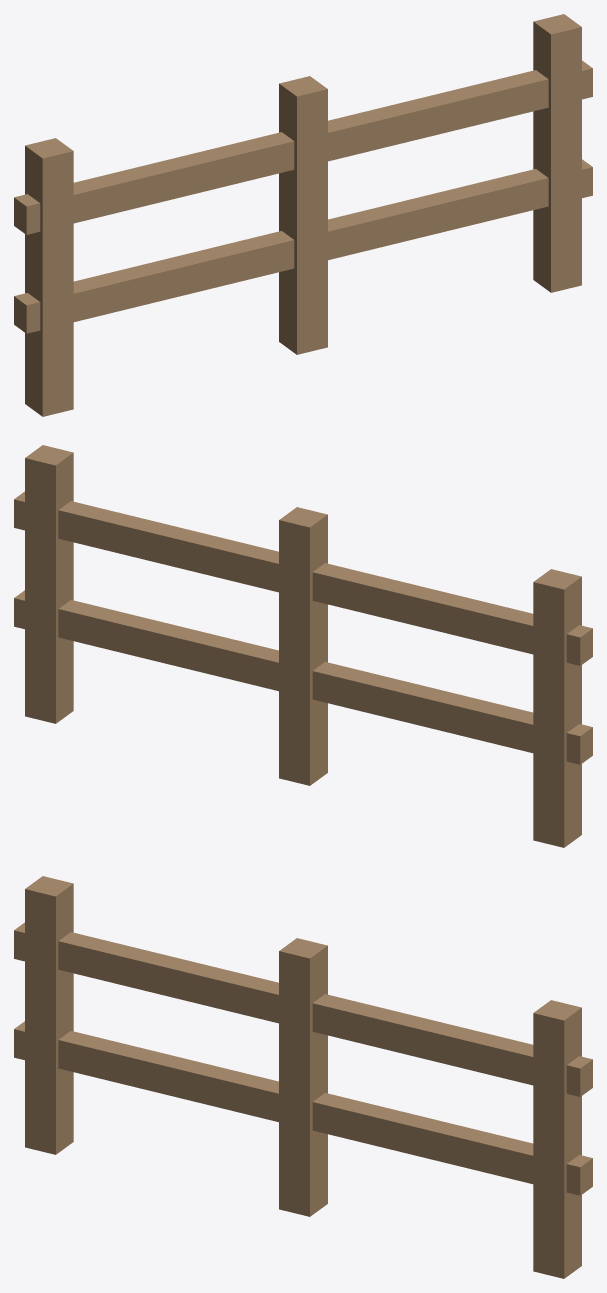
File: wood_fence_3m.gltf
The picture shows the model from 3 angles, top to bottom: view 1: azimuth 30°, elevation 25°; view 2: azimuth 150°, elevation 25°; view 3: azimuth 330°, elevation 25°; orthographic projection.
Visible parts, largest first — view 1: FenceRail_1.04, FenceRail_0.52, FencePost_-1.4, FencePost_0, FencePost_1.4; view 2: FenceRail_1.04, FenceRail_0.52, FencePost_-1.4, FencePost_0, FencePost_1.4; view 3: FenceRail_1.04, FenceRail_0.52, FencePost_1.4, FencePost_0, FencePost_-1.4.
Boxes of the visible parts, box(x1,y1,x2,y2) form: FenceRail_1.04: box(14, 60, 592, 234); FenceRail_0.52: box(14, 159, 592, 333); FencePost_-1.4: box(25, 138, 73, 416); FencePost_0: box(279, 76, 327, 354); FencePost_1.4: box(533, 14, 581, 292); FenceRail_1.04: box(14, 491, 592, 665); FenceRail_0.52: box(14, 590, 592, 764); FencePost_-1.4: box(533, 569, 581, 847); FencePost_0: box(279, 507, 327, 785); FencePost_1.4: box(25, 445, 73, 723); FenceRail_1.04: box(14, 922, 592, 1096); FenceRail_0.52: box(14, 1021, 592, 1195); FencePost_1.4: box(533, 1000, 581, 1278); FencePost_0: box(279, 938, 327, 1216); FencePost_-1.4: box(25, 876, 73, 1154).
Bounding box in the file's own units: 3.12 × 1.36 × 0.17.
